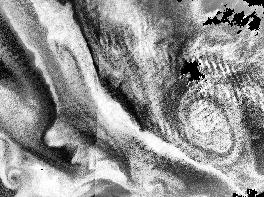CE: (175, 84, 246, 167), (3, 167, 28, 191)
